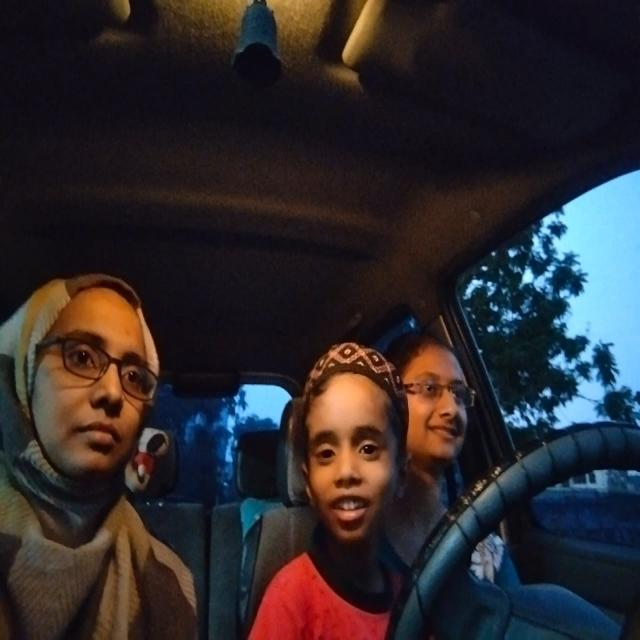child: (295, 344, 411, 543)
person: (15, 279, 166, 491), (399, 328, 473, 468)
